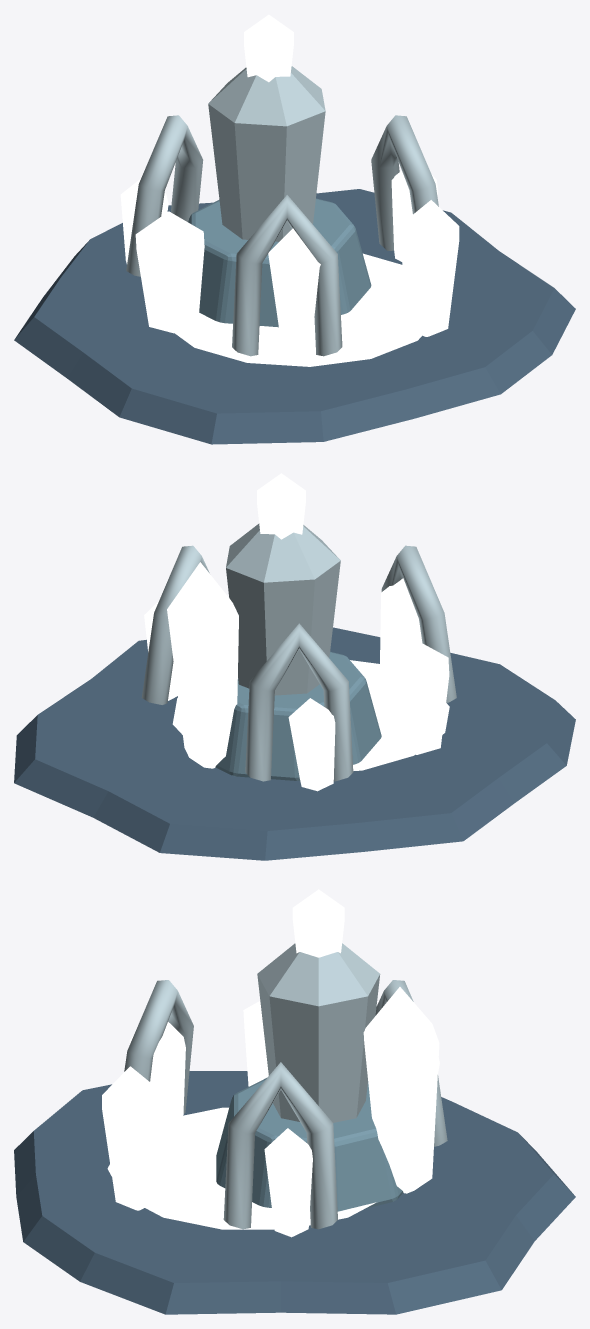
Rendered from crystal-basin-lod1.glb.
3 renders of one model, top to bottom at view 1: azimuth 30°, elevation 25°; view 2: azimuth 150°, elevation 25°; view 3: azimuth 270°, elevation 25°, orthographic. The views are drawn at different scales.
Visible parts, largest first — view 1: STONE_TERRAIN_SOCKET, CRYSTAL_PALACE_KEEP, CRYSTAL_REFLECTIVE_BASIN, STONE_PALACE_TERRACE, CRYSTAL_PRISM_ARCH_2, FX_FLOAT_CRYSTAL_3, CRYSTAL_SPIRE_5, CRYSTAL_PRISM_ARCH_1, CRYSTAL_SPIRE_4, CRYSTAL_PRISM_ARCH_0, FX_CORE, FX_FLOAT_CRYSTAL_0 (+1 smaller); view 2: STONE_TERRAIN_SOCKET, CRYSTAL_PALACE_KEEP, CRYSTAL_SPIRE_1, CRYSTAL_PRISM_ARCH_1, STONE_PALACE_TERRACE, FX_FLOAT_CRYSTAL_3, CRYSTAL_PRISM_ARCH_0, CRYSTAL_PRISM_ARCH_2, CRYSTAL_SPIRE_2, FX_CORE, CRYSTAL_SPIRE_4, CRYSTAL_REFLECTIVE_BASIN (+1 smaller); view 3: STONE_TERRAIN_SOCKET, CRYSTAL_PALACE_KEEP, CRYSTAL_SPIRE_1, CRYSTAL_PRISM_ARCH_0, STONE_PALACE_TERRACE, CRYSTAL_REFLECTIVE_BASIN, CRYSTAL_SPIRE_5, FX_FLOAT_CRYSTAL_0, CRYSTAL_PRISM_ARCH_2, CRYSTAL_SPIRE_4, FX_CORE, FX_FLOAT_CRYSTAL_3 (+1 smaller).
Part boxes in pixels (x1,y1,x2,y2): STONE_TERRAIN_SOCKET: (14,189,575,444); CRYSTAL_PALACE_KEEP: (208,66,325,241); CRYSTAL_REFLECTIVE_BASIN: (174,253,422,366); STONE_PALACE_TERRACE: (188,198,371,327); CRYSTAL_PRISM_ARCH_2: (232,195,342,356); FX_FLOAT_CRYSTAL_3: (135,211,204,333); CRYSTAL_SPIRE_5: (401,200,459,336); CRYSTAL_PRISM_ARCH_1: (126,115,203,276); CRYSTAL_SPIRE_4: (268,228,320,354); CRYSTAL_PRISM_ARCH_0: (371,115,438,250); FX_CORE: (244,14,293,82); FX_FLOAT_CRYSTAL_0: (391,170,437,261); STONE_TERRAIN_SOCKET: (14,627,575,860); CRYSTAL_PALACE_KEEP: (226,523,340,695); CRYSTAL_SPIRE_1: (167,562,238,768); CRYSTAL_PRISM_ARCH_1: (245,623,353,781); STONE_PALACE_TERRACE: (215,651,381,780); FX_FLOAT_CRYSTAL_3: (382,639,449,754); CRYSTAL_PRISM_ARCH_0: (141,545,209,704); CRYSTAL_PRISM_ARCH_2: (381,545,456,702); CRYSTAL_SPIRE_2: (288,698,335,791); FX_CORE: (257,473,305,539); CRYSTAL_SPIRE_4: (379,578,422,690); CRYSTAL_REFLECTIVE_BASIN: (172,660,449,770); STONE_TERRAIN_SOCKET: (14,1071,575,1314); CRYSTAL_PALACE_KEEP: (257,943,380,1122); CRYSTAL_SPIRE_1: (363,987,439,1193); CRYSTAL_PRISM_ARCH_0: (223,1062,337,1229); STONE_PALACE_TERRACE: (216,1077,403,1211); CRYSTAL_REFLECTIVE_BASIN: (107,1107,376,1229); CRYSTAL_SPIRE_5: (102,1066,162,1210); FX_FLOAT_CRYSTAL_0: (264,1128,312,1237); CRYSTAL_PRISM_ARCH_2: (124,980,193,1113); CRYSTAL_SPIRE_4: (129,1022,185,1149); FX_CORE: (292,889,344,957); FX_FLOAT_CRYSTAL_3: (243,1001,268,1086).
Bounding box in the file's own units: 1.72 × 1.08 × 1.78.
